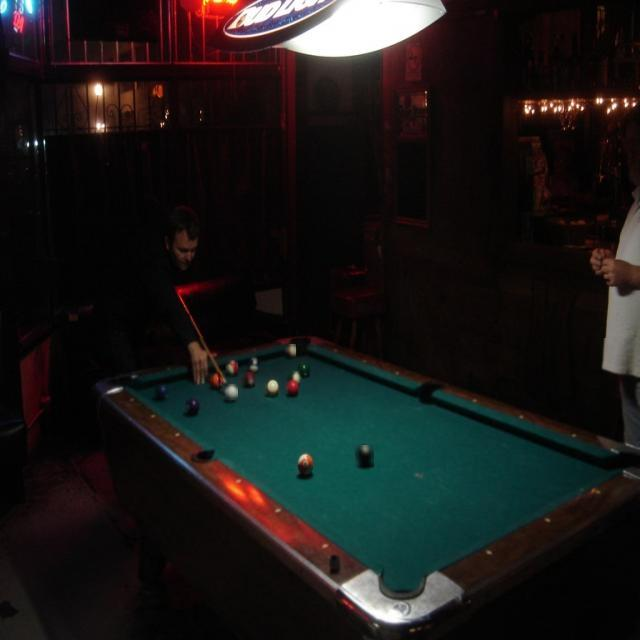Ball: (295, 452, 313, 476), (355, 445, 374, 467), (186, 399, 202, 418), (155, 385, 170, 403), (266, 379, 280, 395), (298, 362, 310, 378), (248, 356, 260, 372), (226, 384, 238, 400), (227, 360, 238, 377), (242, 373, 255, 387), (288, 371, 302, 383), (212, 372, 222, 388), (286, 381, 298, 394), (285, 344, 296, 358)
Billiard table: (98, 338, 640, 639)
